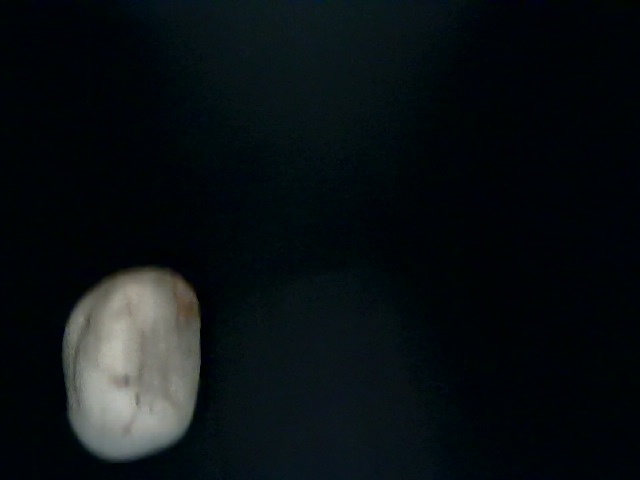QTLJ: (99, 1, 373, 147)
